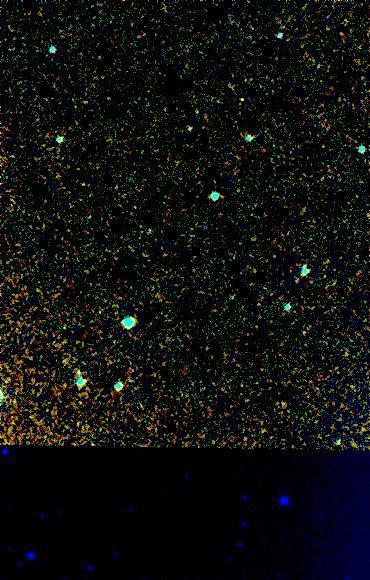star: (226, 84, 256, 114)
